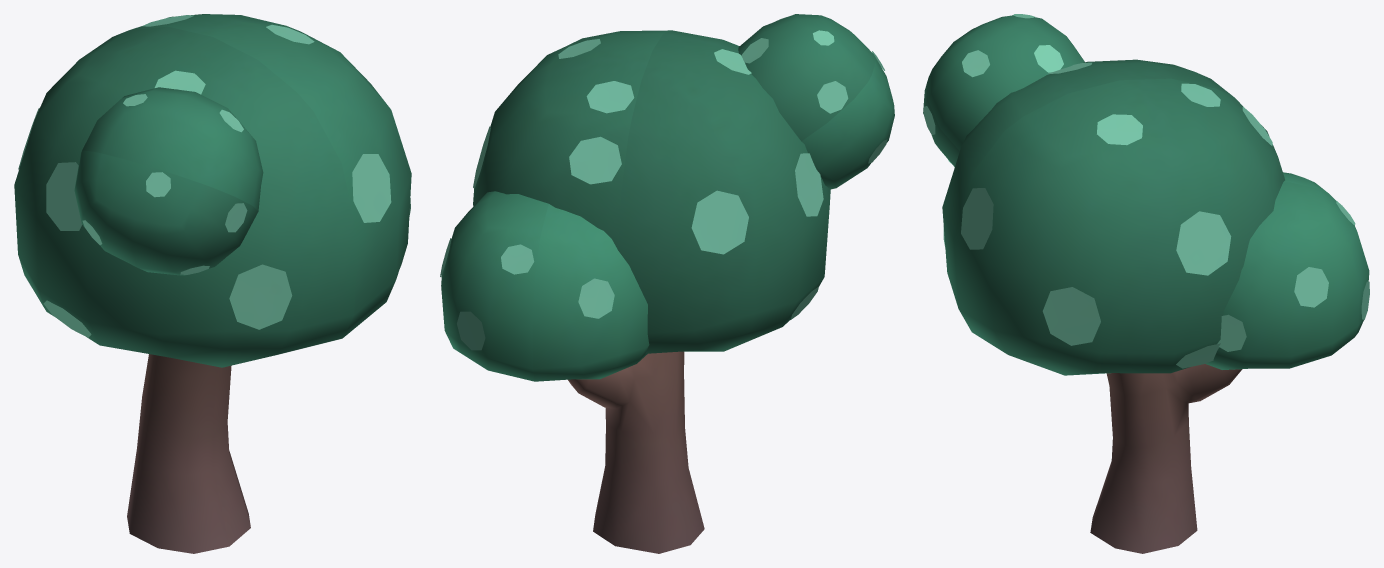
File: Env_Nature_Tree_2.fbx
The picture shows the model from 3 angles, left to right: view 1: azimuth 30°, elevation 25°; view 2: azimuth 150°, elevation 25°; view 3: azimuth 270°, elevation 25°; orthographic projection. The views are drawn at different scales.
Visible parts, largest first — view 1: Arvore_2_01; view 2: Arvore_2_01; view 3: Arvore_2_01.
Part boxes in pixels (x1,y1,x2,y2): Arvore_2_01: [14, 14, 411, 553]; Arvore_2_01: [440, 14, 894, 553]; Arvore_2_01: [923, 14, 1369, 553].
Bounding box in the file's own units: 205 × 279 × 244.
